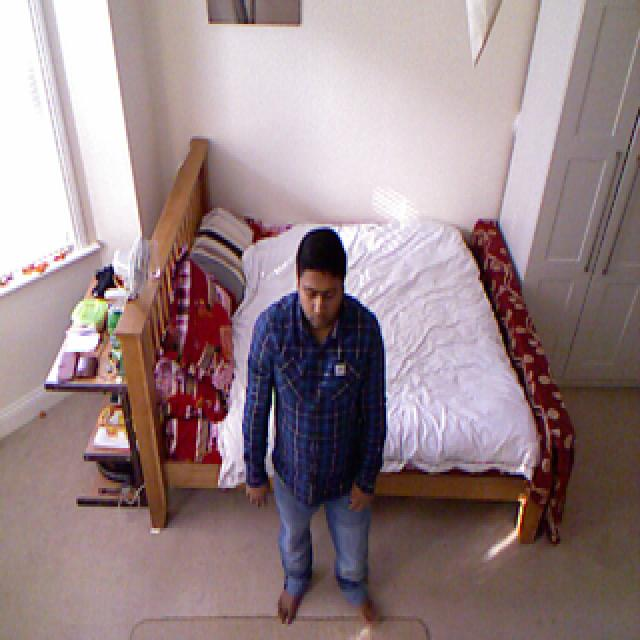standing: (250, 231, 388, 630)
